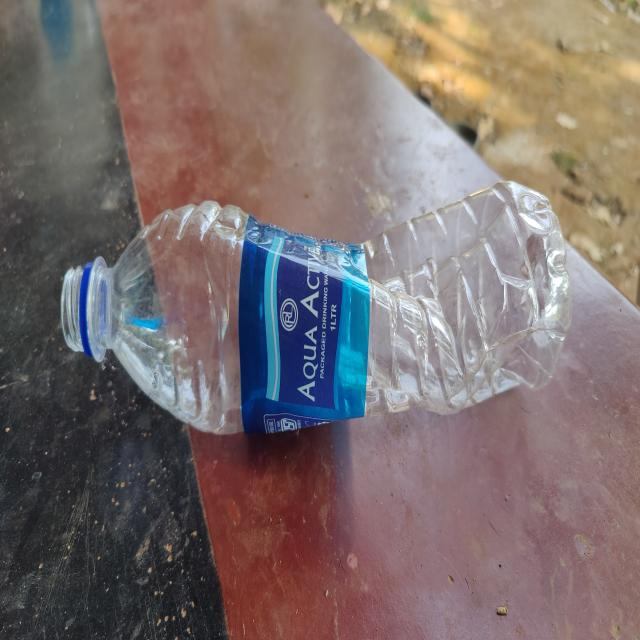plastic: (60, 186, 570, 437)
